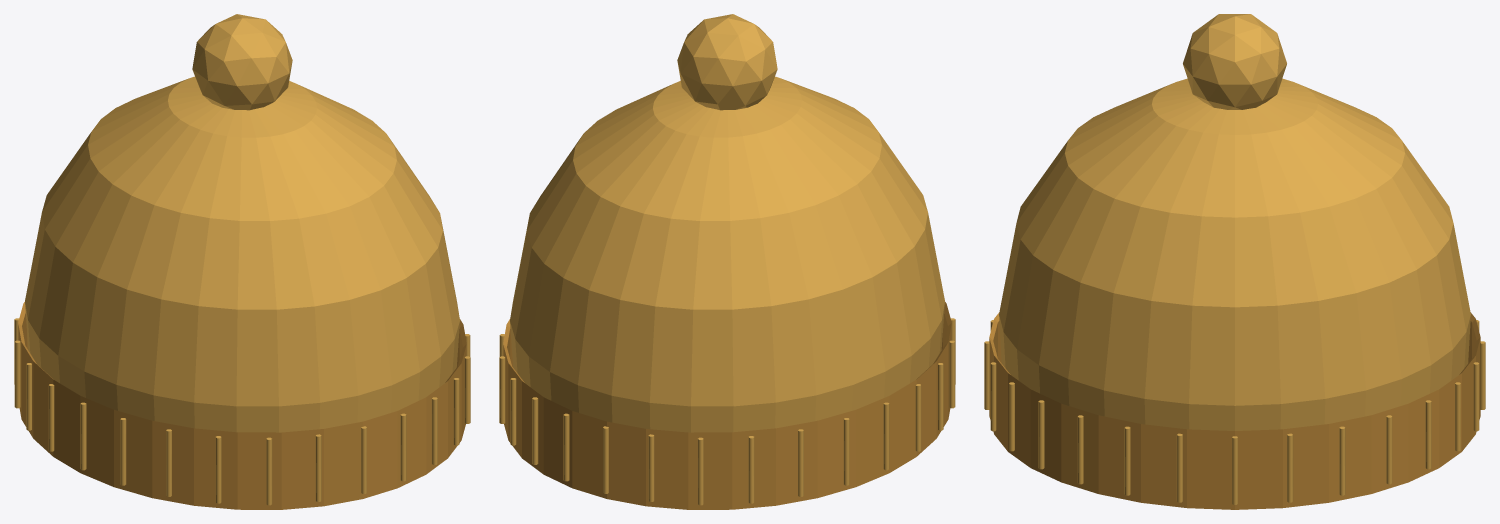
Rendered from hat_beanie.glb.
3 renders of one model, left to right at view 1: azimuth 30°, elevation 25°; view 2: azimuth 150°, elevation 25°; view 3: azimuth 270°, elevation 25°, orthographic.
Visible parts, largest first — view 1: Beanie_Open_Crown, Beanie_Folded_Cuff, Beanie_Pompom; view 2: Beanie_Open_Crown, Beanie_Folded_Cuff, Beanie_Pompom; view 3: Beanie_Open_Crown, Beanie_Folded_Cuff, Beanie_Pompom.
Part boxes in pixels (bbox=[...]): Beanie_Open_Crown: bbox=[25, 76, 459, 432]; Beanie_Folded_Cuff: bbox=[18, 302, 466, 509]; Beanie_Pompom: bbox=[192, 14, 292, 110]; Beanie_Open_Crown: bbox=[510, 76, 944, 432]; Beanie_Folded_Cuff: bbox=[503, 302, 951, 509]; Beanie_Pompom: bbox=[677, 14, 777, 110]; Beanie_Open_Crown: bbox=[999, 78, 1470, 430]; Beanie_Folded_Cuff: bbox=[989, 312, 1480, 509]; Beanie_Pompom: bbox=[1183, 14, 1286, 109].
Size of the model in its own units: 0.2348 by 0.228 by 0.2592.
